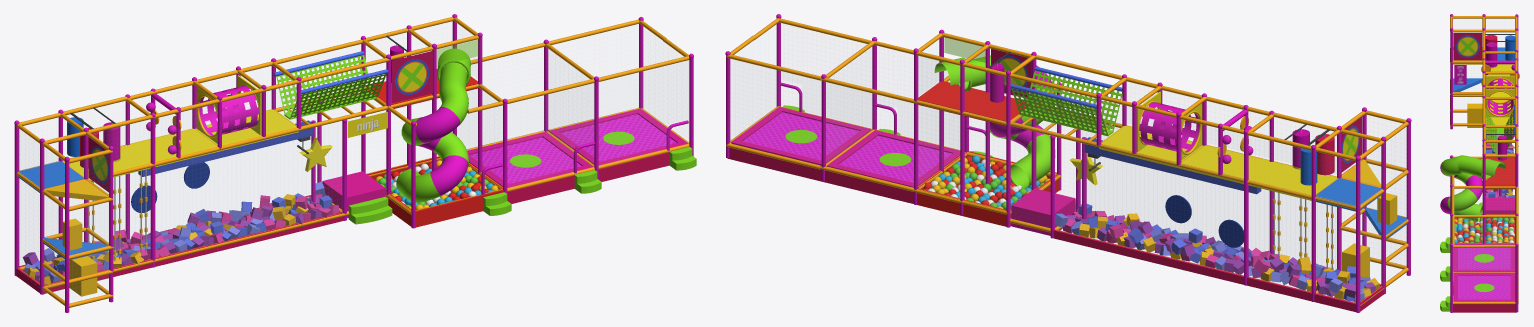
File: brinquedao-ninja.glb
3 renders of one model, left to right at view 1: azimuth 30°, elevation 25°; view 2: azimuth 150°, elevation 25°; view 3: azimuth 270°, elevation 25°, orthographic. The views are drawn at different scales.
Parts seen in each view (by area): view 1: tela-protecao, barras-laranja, colunas, cubos-de-espuma, lona-cama-elastica, amarelo, bloco-rosa, acolchoado-carmim, tobogã-verde, verde-limao, rede-verde, amarelo-ouro (+13 smaller); view 2: tela-protecao, barras-laranja, colunas, cubos-de-espuma, acolchoado-carmim, amarelo, lona-cama-elastica, bloco-rosa, vermelho, rede-verde, bolinhas, tobogã-verde (+14 smaller); view 3: barras-laranja, lona-cama-elastica, colunas, tobogã-verde, tela-protecao, bloco-rosa, bolinhas, amarelo, vermelho, painel-x, verde-limao, amarelo-ouro (+11 smaller).
Boxes of the visible parts, bbox=[...] form: tela-protecao: bbox=[20, 49, 688, 270]; barras-laranja: bbox=[16, 17, 689, 307]; colunas: bbox=[14, 14, 693, 312]; cubos-de-espuma: bbox=[22, 182, 338, 284]; lona-cama-elastica: bbox=[469, 114, 676, 183]; amarelo: bbox=[62, 75, 332, 182]; bloco-rosa: bbox=[322, 108, 687, 218]; acolchoado-carmim: bbox=[16, 152, 669, 293]; tobogã-verde: bbox=[396, 48, 470, 202]; verde-limao: bbox=[284, 93, 696, 224]; rede-verde: bbox=[276, 55, 386, 118]; amarelo-ouro: bbox=[46, 84, 259, 296]; tela-protecao: bbox=[730, 47, 1405, 269]; barras-laranja: bbox=[726, 18, 1408, 305]; colunas: bbox=[725, 14, 1411, 312]; cubos-de-espuma: bbox=[1055, 204, 1380, 302]; acolchoado-carmim: bbox=[728, 147, 1384, 311]; amarelo: bbox=[1070, 91, 1337, 200]; lona-cama-elastica: bbox=[743, 112, 951, 182]; bloco-rosa: bbox=[731, 107, 1075, 235]; vermelho: bbox=[917, 81, 1059, 226]; rede-verde: bbox=[1011, 70, 1122, 134]; bolinhas: bbox=[923, 155, 1050, 209]; tobogã-verde: bbox=[934, 55, 1055, 188]; barras-laranja: bbox=[1450, 16, 1519, 304]; lona-cama-elastica: bbox=[1458, 247, 1510, 299]; colunas: bbox=[1450, 14, 1518, 312]; tobogã-verde: bbox=[1441, 155, 1505, 222]; tela-protecao: bbox=[1453, 218, 1514, 271]; bloco-rosa: bbox=[1453, 197, 1515, 301]; bolinhas: bbox=[1454, 217, 1514, 242]; amarelo: bbox=[1485, 64, 1514, 131]; vermelho: bbox=[1455, 157, 1515, 243]; painel-x: bbox=[1453, 33, 1482, 60]; verde-limao: bbox=[1440, 128, 1503, 311]; amarelo-ouro: bbox=[1453, 48, 1514, 136].
Bounding box in the file's own units: 14.3 × 3.37 × 2.42.
29 materials, 7 textured.
